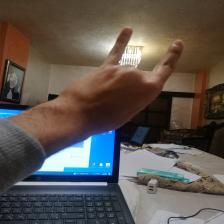five: (74, 24, 187, 125)
